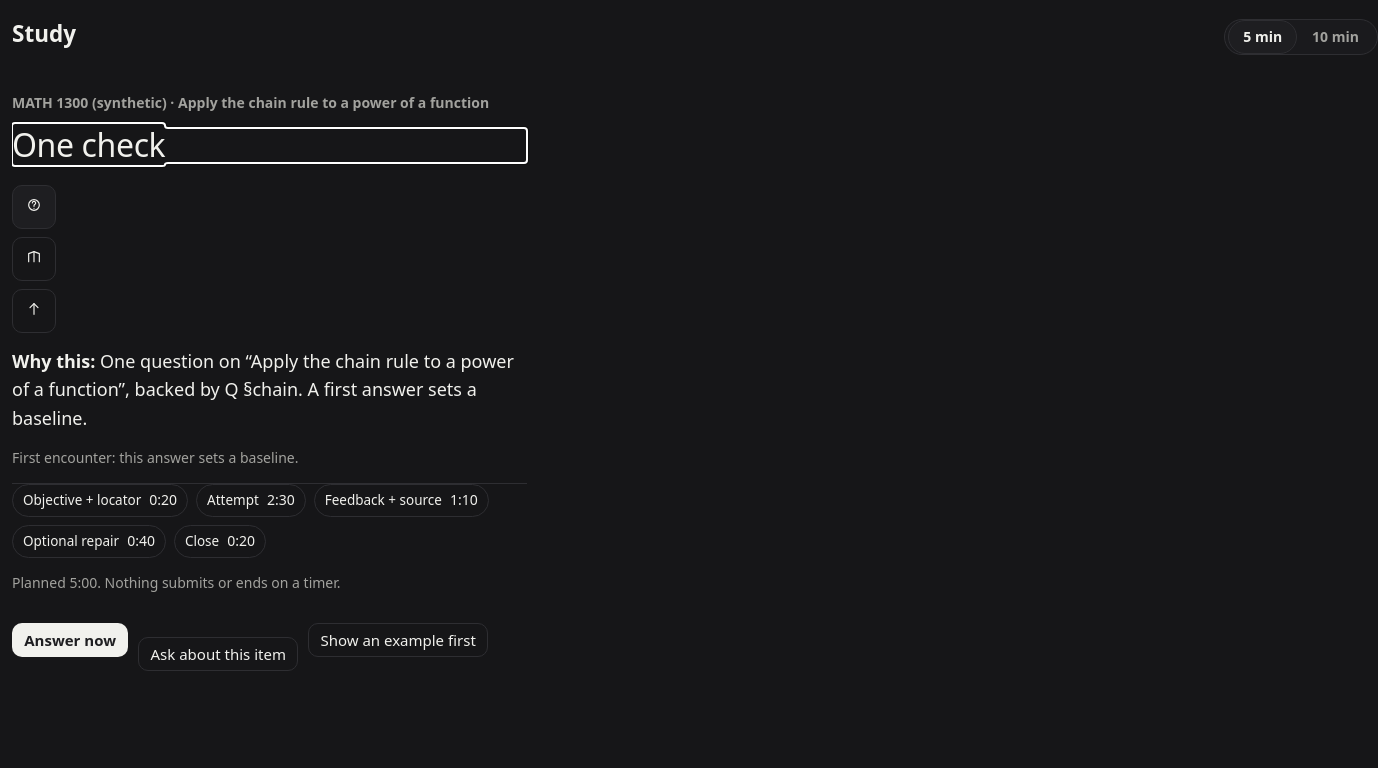
Test: Spatial Instrument chrome › shows now-playing during an attempt
Expected: the heading "One check" is shown, [12,123,165,166]
Click the button "Answer now".
click(70, 640)  # box [12,623,128,657]
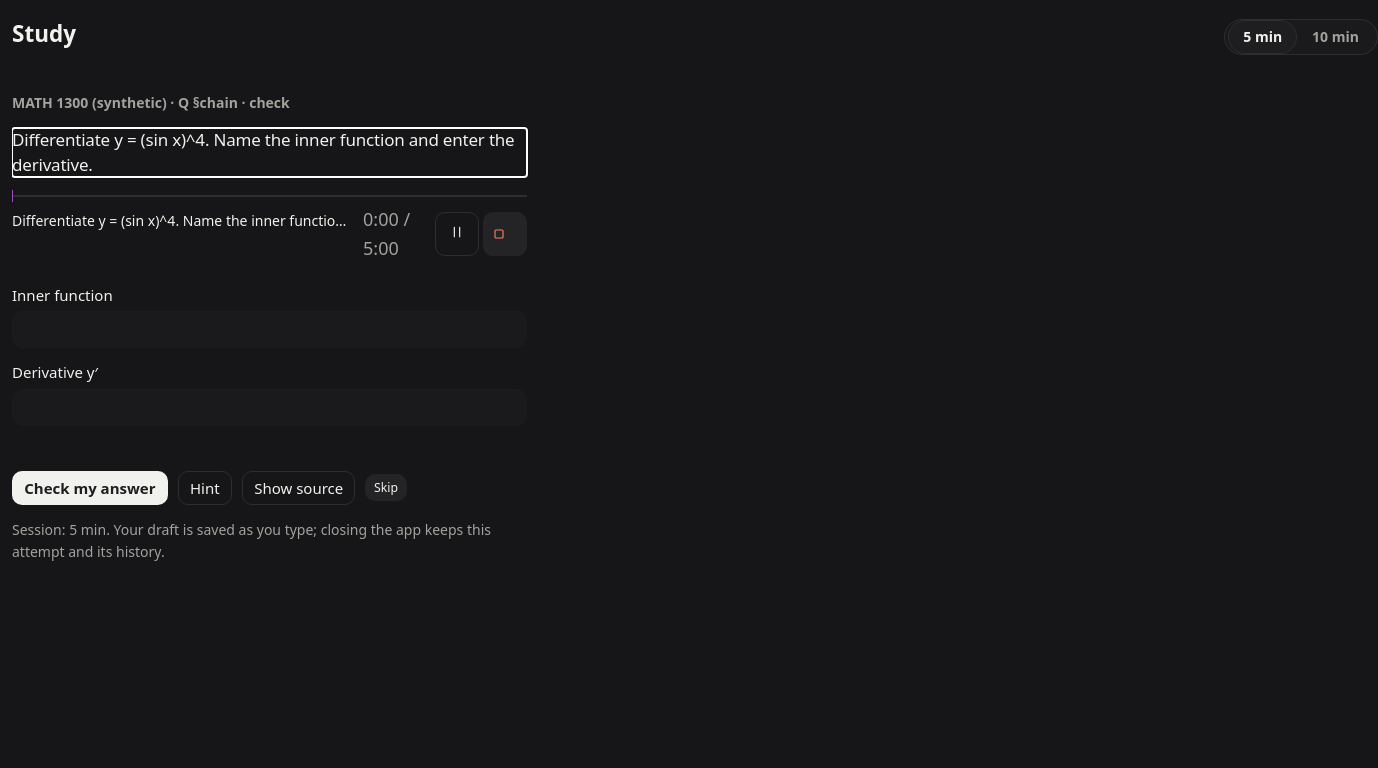
Now the button named "Stop" is shown, box [483,212,527,256]
